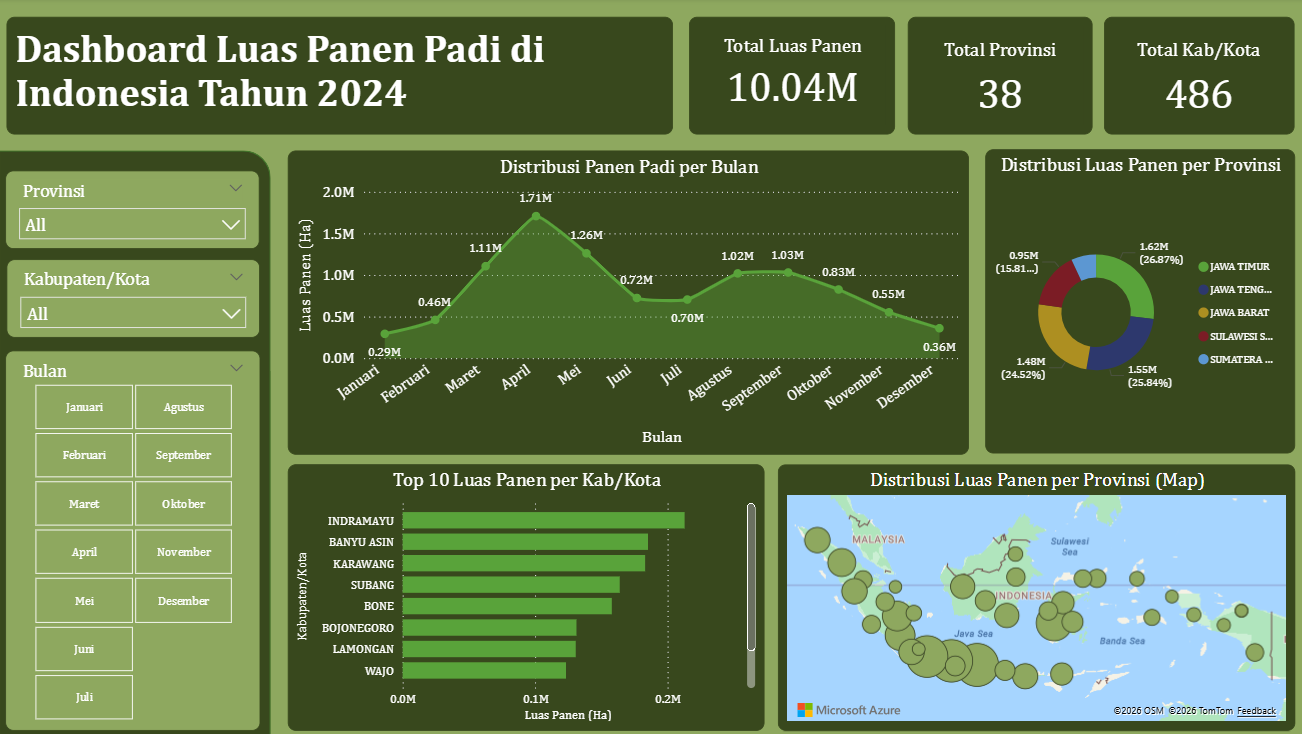

The dashboard page shown, as its layout file describes it:
{"tool":"powerbi","page":{"name":"Page 1","canvas":[1280,720],"ordinal":0},"visuals":[{"type":"cardVisual","fields":{"Data":["rice_harvest_long.Total Harvest Area"]},"box":[674.8,18.1,201.7,115.5],"z":0},{"type":"cardVisual","fields":{"Data":["rice_harvest_long.Total Provinces"]},"box":[889.3,18,181.1,115.3],"z":1000},{"type":"cardVisual","fields":{"Data":["rice_harvest_long.Total Regencies"]},"box":[1081,18.1,186.4,115.5],"z":2000},{"type":"lineChart","title":"Distribusi Panen Padi per Bulan","fields":{"Category":["rice_harvest_long.Bulan"],"Y":["Sum(rice_harvest_long.Luas_Panen)"]},"box":[282.4,148.9,666.4,297.7],"z":3000},{"type":"clusteredBarChart","title":"Top 10 Luas Panen per Kab/Kota","fields":{"Category":["rice_harvest_long.Kabupaten_Kota"],"Y":["Sum(rice_harvest_long.Luas_Panen)"]},"box":[282.8,455.7,466.6,260.7],"z":4000},{"type":"donutChart","title":"Distribusi Luas Panen per Provinsi","fields":{"Category":["rice_harvest_long.Provinsi"],"Y":["Sum(rice_harvest_long.Luas_Panen)"]},"box":[964.8,148.3,303.3,297.8],"z":5000},{"type":"azureMap","title":"Distribusi Luas Panen per Provinsi (Map)","fields":{"Category":["rice_harvest_long.Provinsi"],"Size":["Sum(rice_harvest_long.Luas_Panen)"]},"box":[761.7,455.7,506.3,260.7],"z":6000},{"type":"shape","box":[0,148.9,265.7,571.8],"z":7000},{"type":"slicer","fields":{"Values":["rice_harvest_long.Provinsi"]},"box":[5.6,168.3,249,76.5],"z":8000},{"type":"slicer","fields":{"Values":["rice_harvest_long.Bulan"]},"box":[5.6,344.5,249.7,371.9],"z":9000},{"type":"slicer","fields":{"Values":["rice_harvest_long.Kabupaten_Kota"]},"box":[7,255.3,248.4,76.8],"z":10000},{"type":"textbox","box":[7.3,18.3,651.8,114.9],"z":11000}]}

Visuals, with their boxes in screenshot pixels (x1, y1, x2, y2), scaled from the page's 1280x720 canvas onto the 1302x734 screenshot:
cardVisual - rice_harvest_long.Total Harvest Area: [left=686, top=18, right=892, bottom=136]
cardVisual - rice_harvest_long.Total Provinces: [left=905, top=18, right=1089, bottom=136]
cardVisual - rice_harvest_long.Total Regencies: [left=1100, top=18, right=1289, bottom=136]
"Distribusi Panen Padi per Bulan" lineChart: [left=287, top=152, right=965, bottom=455]
"Top 10 Luas Panen per Kab/Kota" clusteredBarChart: [left=288, top=465, right=762, bottom=730]
"Distribusi Luas Panen per Provinsi" donutChart: [left=981, top=151, right=1290, bottom=455]
"Distribusi Luas Panen per Provinsi (Map)" azureMap: [left=775, top=465, right=1290, bottom=730]
shape: [left=0, top=152, right=270, bottom=733]
slicer - rice_harvest_long.Provinsi: [left=6, top=172, right=259, bottom=250]
slicer - rice_harvest_long.Bulan: [left=6, top=351, right=260, bottom=730]
slicer - rice_harvest_long.Kabupaten_Kota: [left=7, top=260, right=260, bottom=339]
textbox: [left=7, top=19, right=670, bottom=136]
